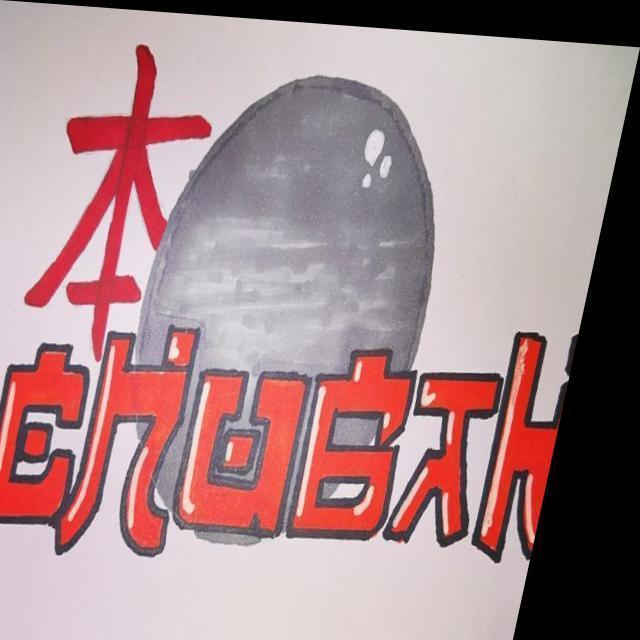nonspitting: (0, 327, 554, 559), (26, 45, 212, 352)
